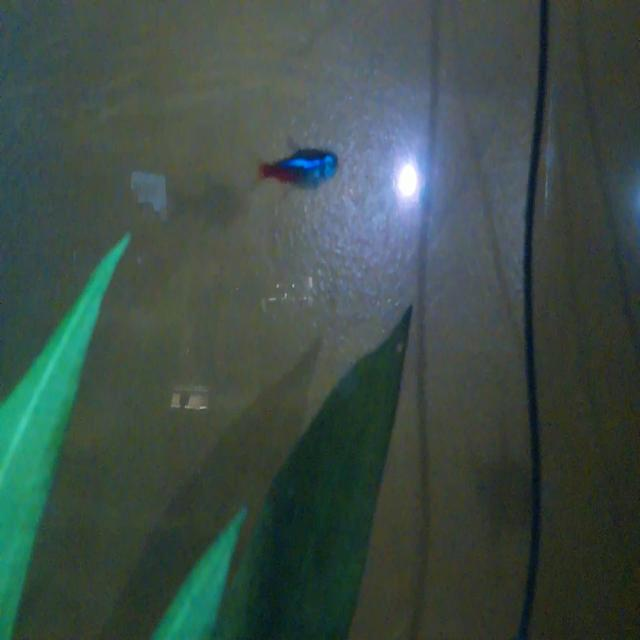fish: (249, 129, 344, 196)
